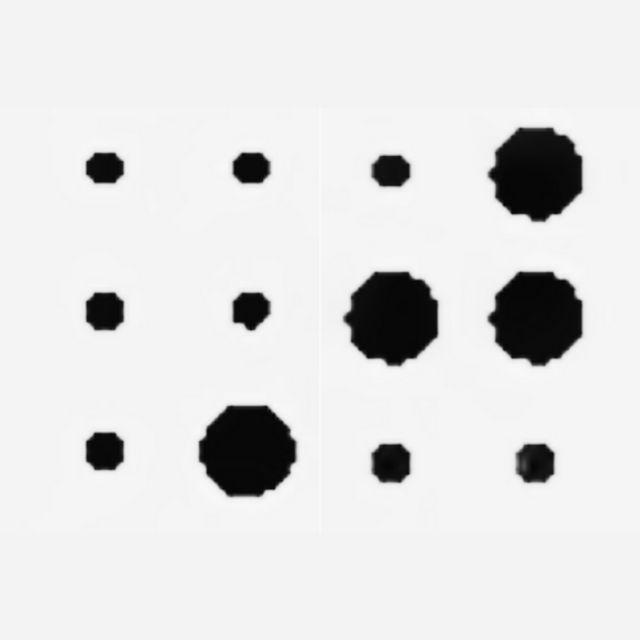J: (345, 129, 584, 497)
capital: (58, 128, 296, 496)
